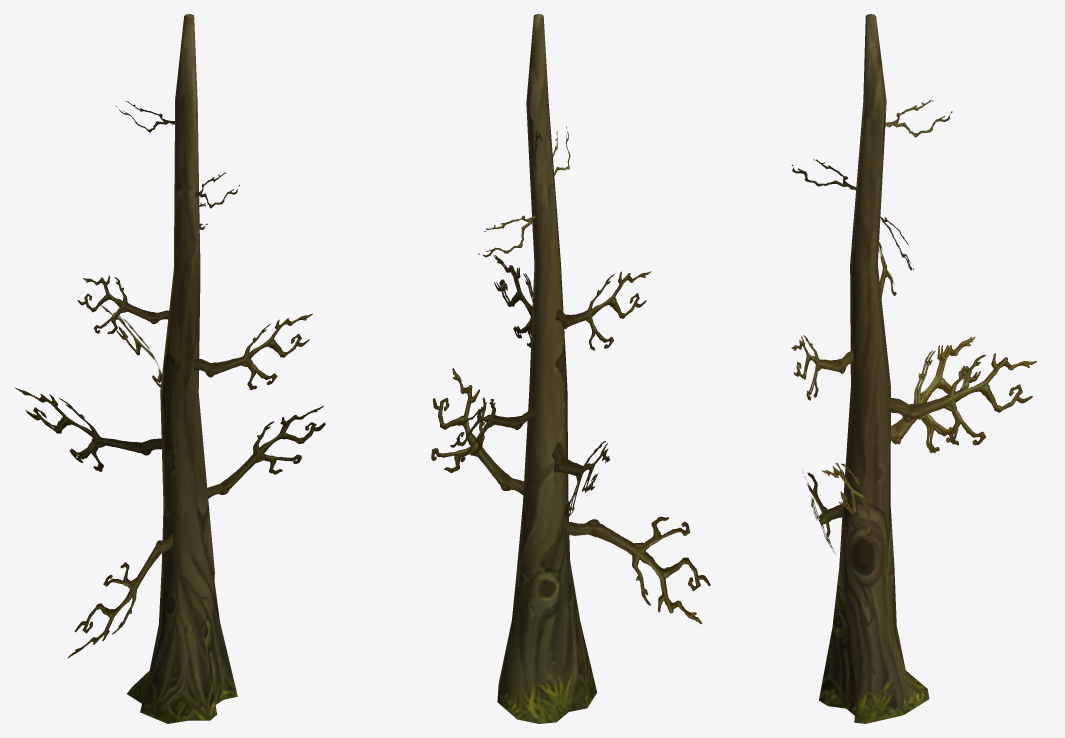
File: Coniferous_green03.FBX
3 renders of one model, left to right at view 1: azimuth 30°, elevation 25°; view 2: azimuth 150°, elevation 25°; view 3: azimuth 270°, elevation 25°, orthographic.
Visible parts, largest first — view 1: Coniferous_green03; view 2: Coniferous_green03; view 3: Coniferous_green03.
Part boxes in pixels (x1=…): Coniferous_green03: x1=14, y1=14, x2=325, y2=723; Coniferous_green03: x1=431, y1=14, x2=710, y2=723; Coniferous_green03: x1=791, y1=14, x2=1036, y2=723.
Bounding box in the file's own units: 1051 × 2002 × 699.
